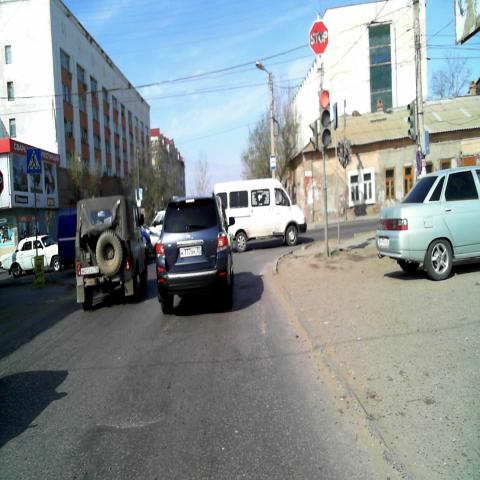2_5: (310, 23, 330, 56)
